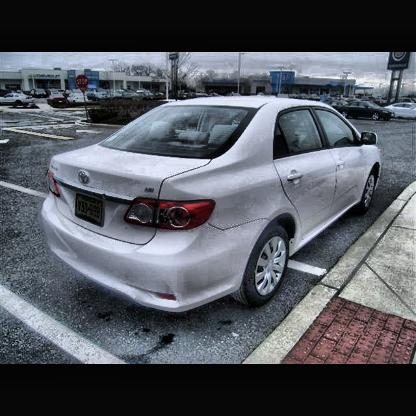Toyota Corolla Sedan 2012: (40, 97, 379, 312)
